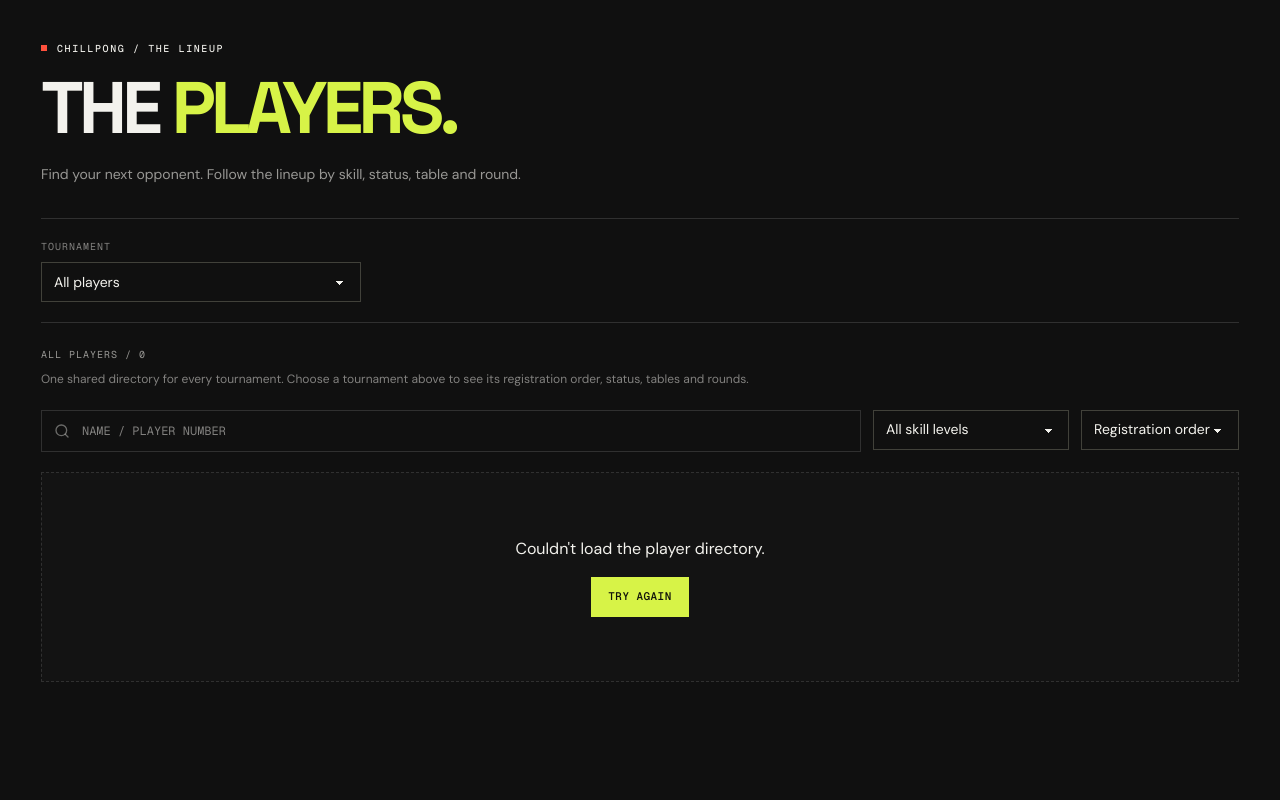
Players page › shows a retryable directory error independently of the tournament board
Expected: the message shows "Couldn't load the player directory.", [515,538,765,559]
What coordinates should you click on to do the following:
click the button "Try again"
I would click on:
 (640, 597)
Its box is [591,577,689,617].
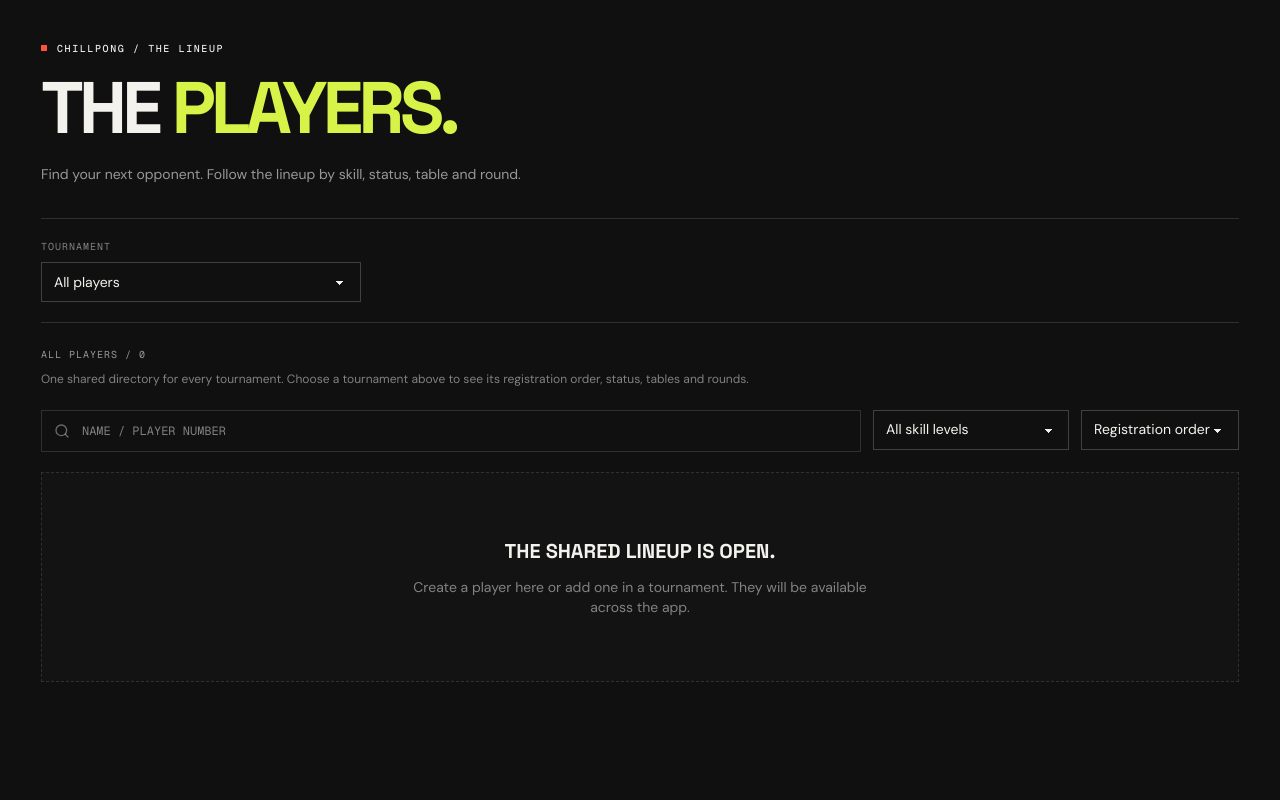
Expected: the text "The shared lineup is open." is shown, [505,537,775,565]
